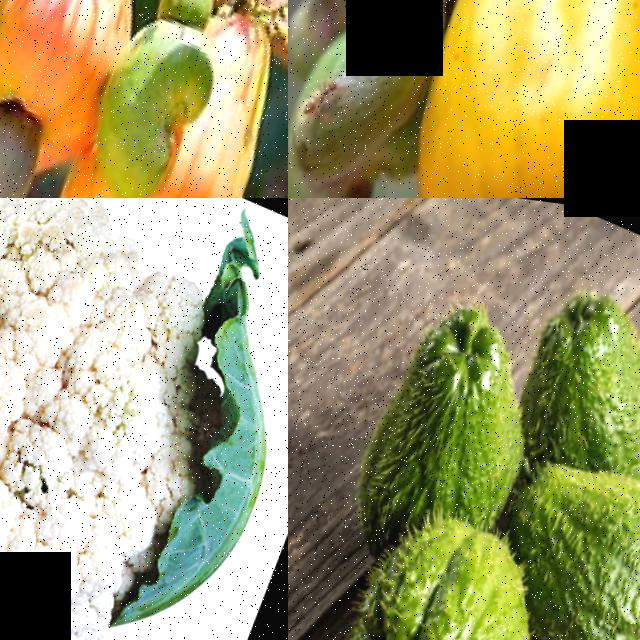cashew: (69, 0, 246, 198), (288, 0, 465, 194), (0, 62, 69, 198)
cauliflower: (0, 198, 288, 640)
chayote: (351, 286, 529, 521), (318, 503, 559, 640), (496, 423, 640, 640)
